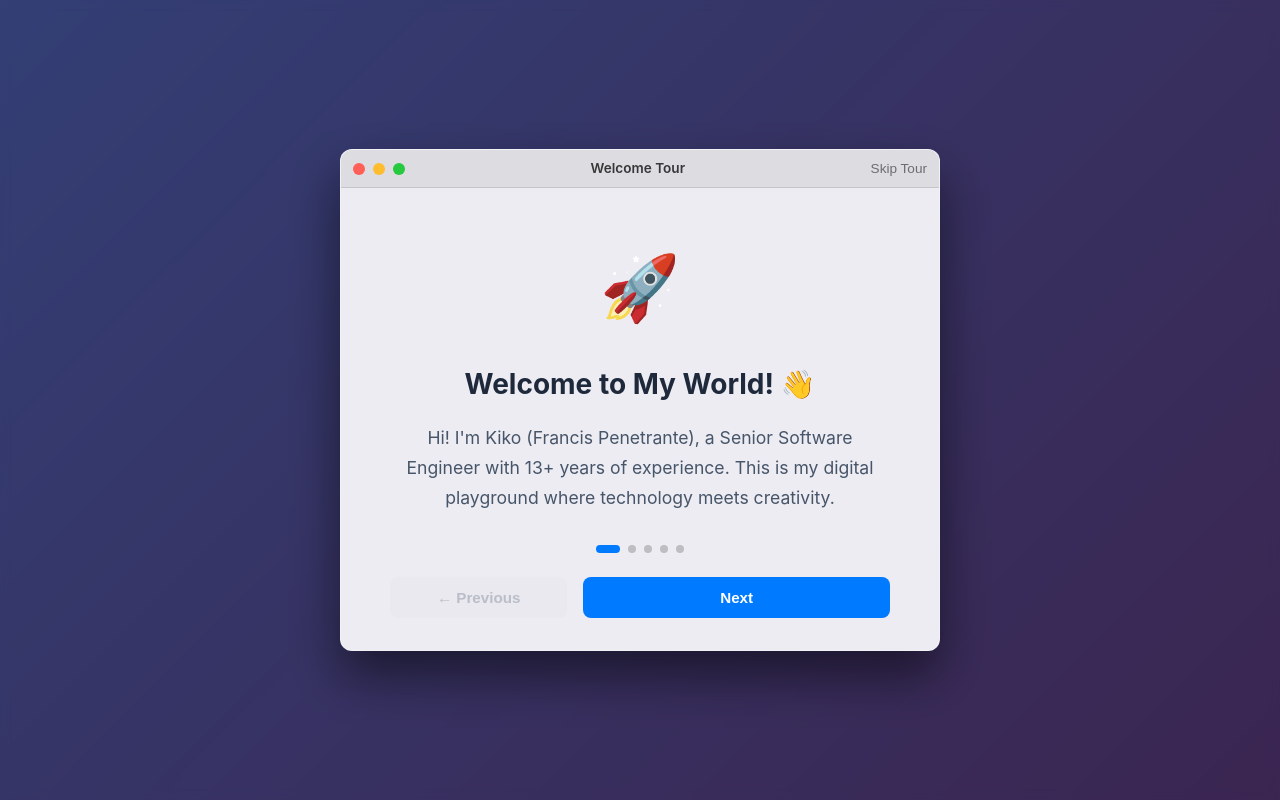
Test case: WelcomeTour › shows Get Started on the last slide
The width and height of the screenshot is (1280, 800).
Click the button "Next" at [737, 598], box [583, 577, 890, 618]
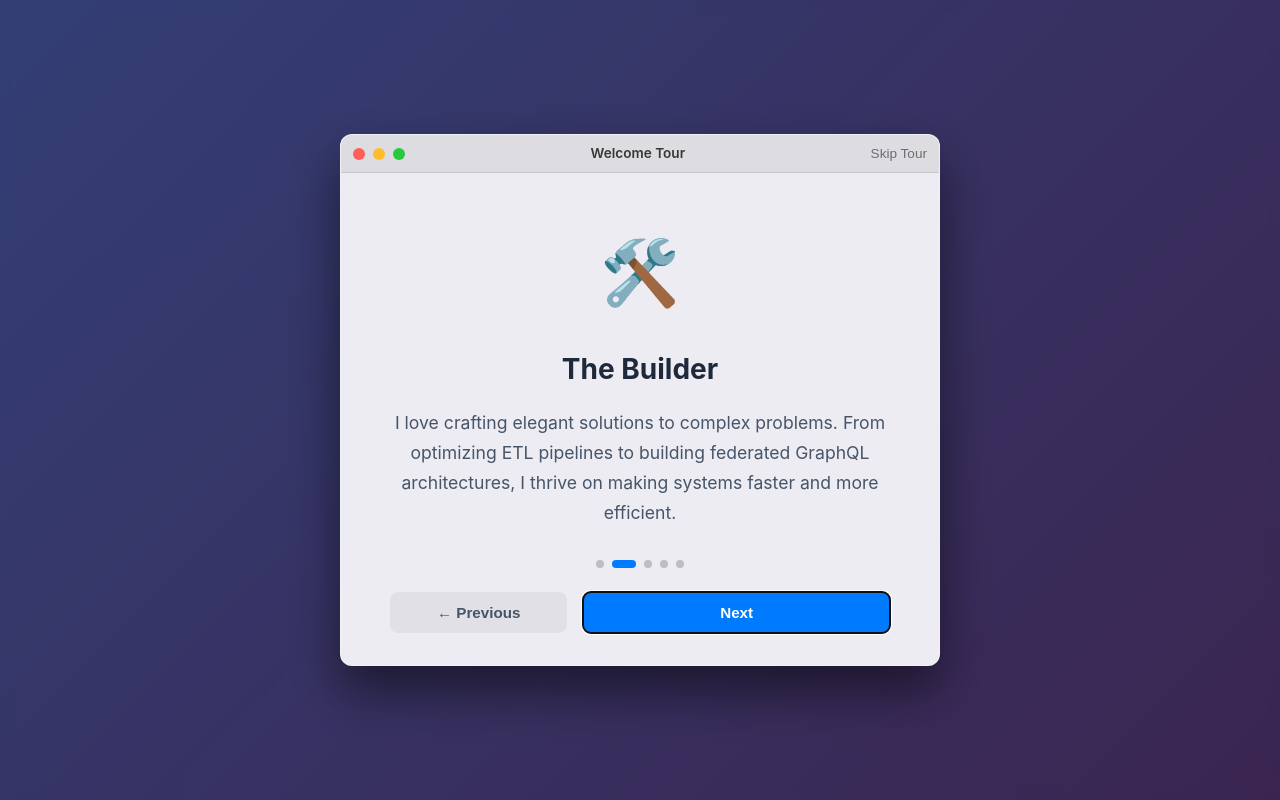
Click the button "Next" at [737, 612], box [583, 592, 890, 633]
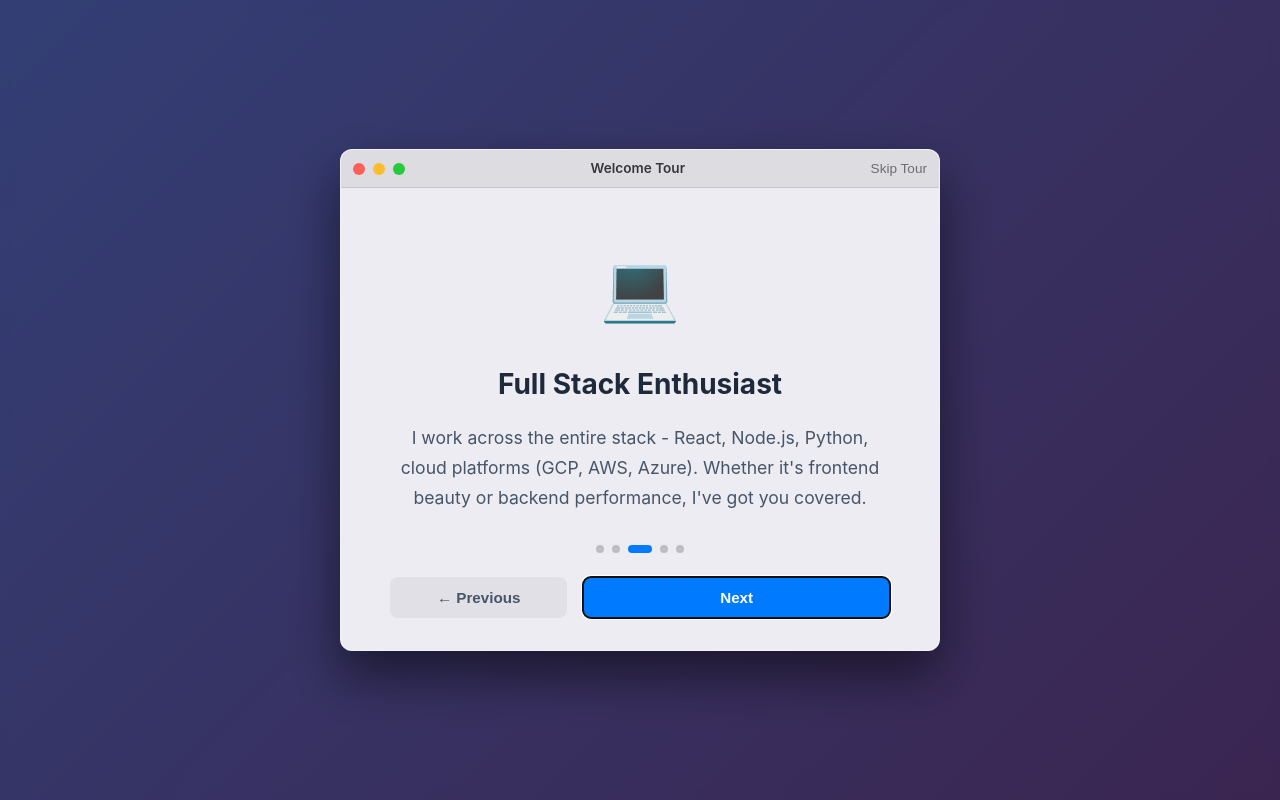
Click the button "Next" at [737, 598], box [583, 577, 890, 618]
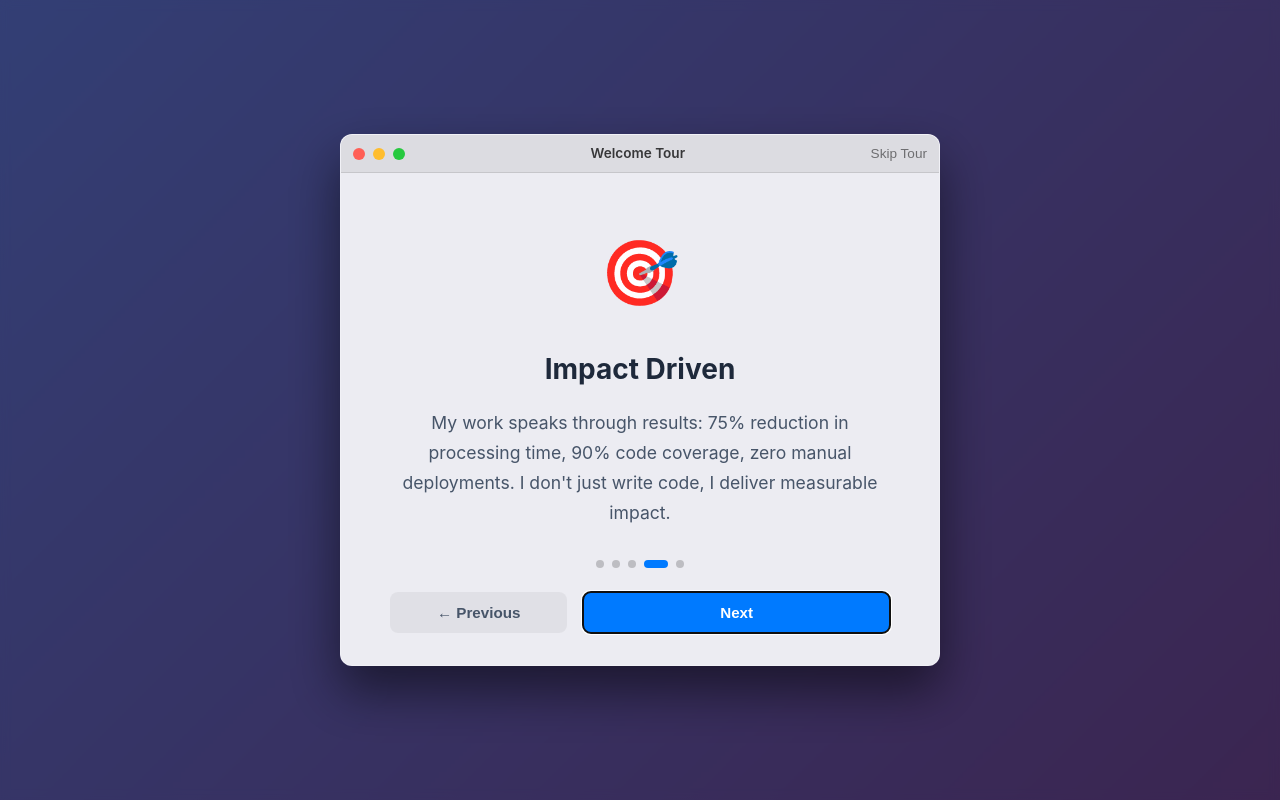
Click the button "Next" at [737, 612], box [583, 592, 890, 633]
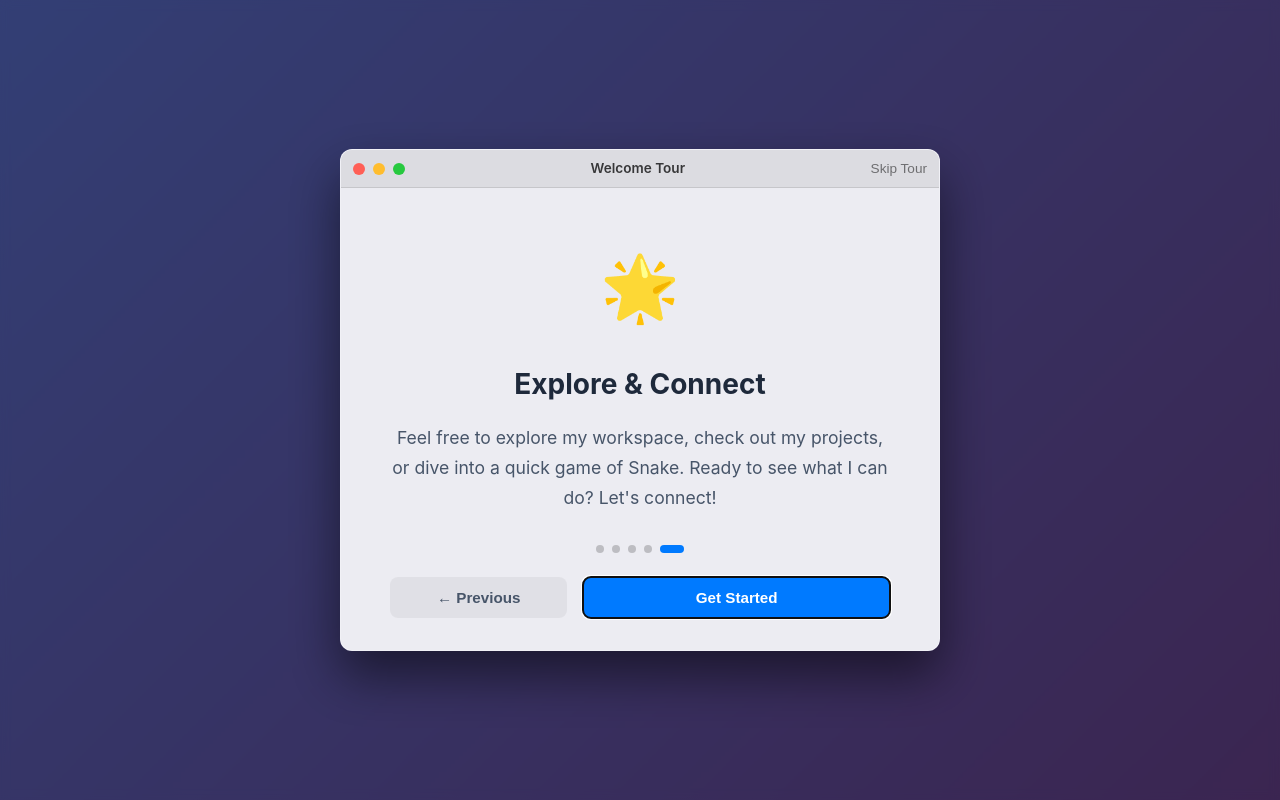
Expected: the heading "Explore & Connect" is shown, [514, 362, 766, 407]
Expected: the button "Get Started" is shown, [583, 577, 890, 618]
